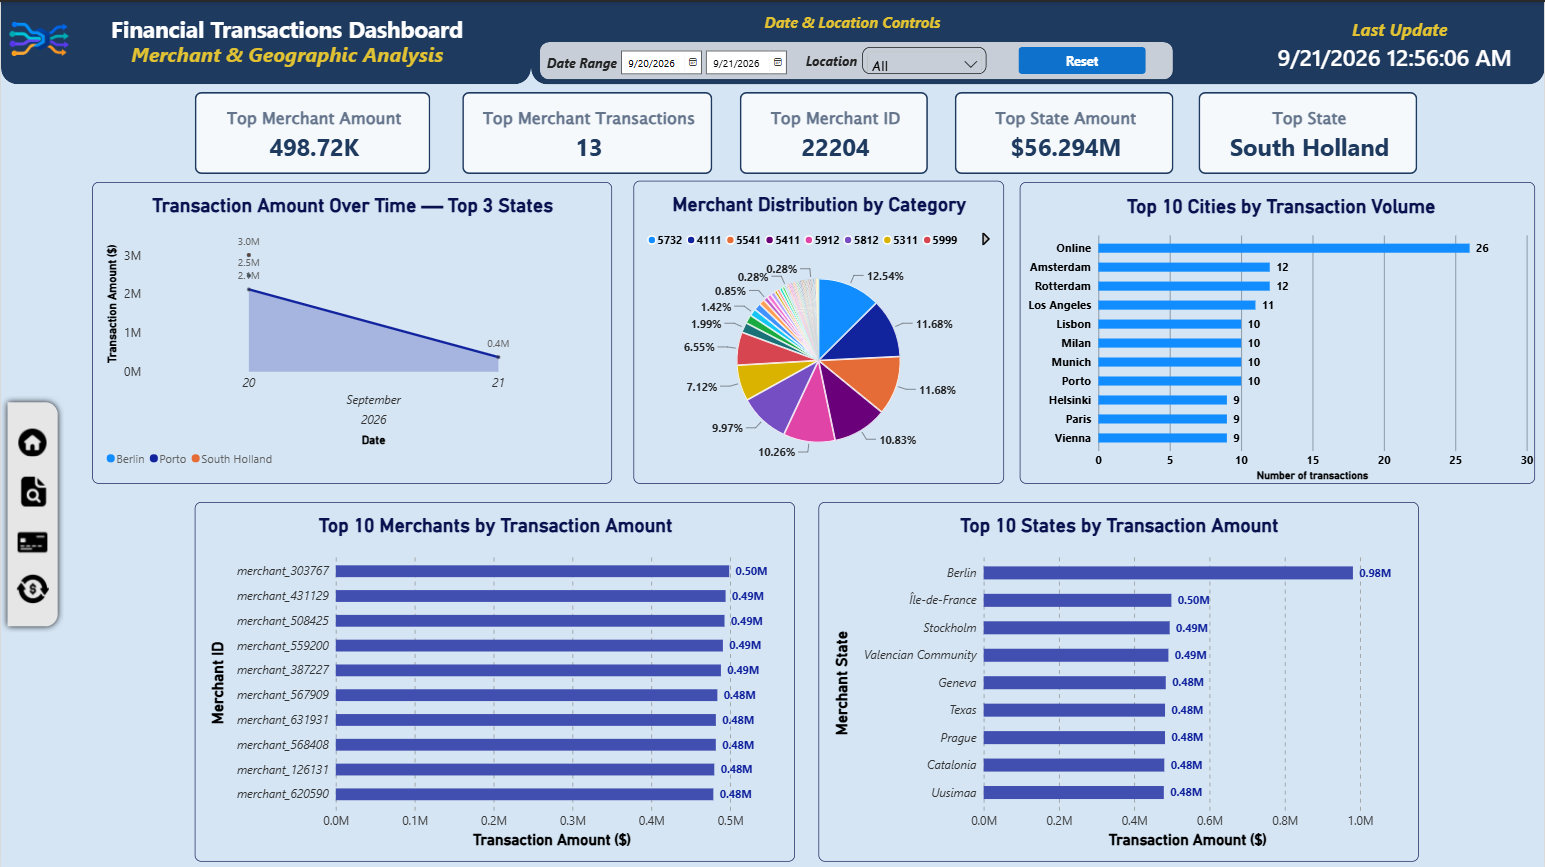

Layout of this report page (visuals, bound fields, positions):
{"tool":"powerbi","page":{"name":"Merchant & Geographic","canvas":[1920,1080],"ordinal":4},"visuals":[{"type":"shape","box":[0,0,659.1,102.4],"z":0},{"type":"shape","box":[670.3,50.3,787.6,46.5],"z":0,"group":"g1"},{"type":"shape","box":[0,489,78.5,294.8],"z":0,"group":"g2"},{"type":"slicer","fields":{"Values":["fact_transactions.timestamp"]},"box":[763.4,55.8,223.4,37.2],"z":1000,"group":"g1"},{"type":"cardVisual","fields":{"Data":["fact_transactions.Top Merchant Amount"]},"box":[240.7,111.8,293.2,102.6],"z":1000},{"type":"image","box":[0,3.5,94.2,85.5],"z":2000},{"type":"shape","box":[674,50.3,98.7,50.3],"z":2000,"group":"g1"},{"type":"shape","box":[659.2,0,1260.8,102.7],"z":3000},{"type":"shape","box":[983.1,48.4,100.5,50.3],"z":3000,"group":"g1"},{"type":"shape","box":[136.9,3.6,437.7,59.4],"z":4000},{"type":"slicer","fields":{"Values":["dim_merchant.merchant_state"]},"box":[1070.6,55.8,154.5,33.5],"z":4000,"group":"g1"},{"type":"shape","box":[161.3,38.9,388.7,50.5],"z":5000},{"type":"actionButton","box":[1266.1,55.8,158.3,33.5],"z":5000,"group":"g1"},{"type":"cardVisual","title":"Last Update","fields":{"Data":["Min(Last_Update.Last Update)"]},"box":[1571.5,46.5,337,42.8],"z":6000},{"type":"shape","box":[1625.5,16.8,227.2,33.5],"z":7000},{"type":"shape","box":[919.8,0,277.4,50.3],"z":8000},{"type":"group","id":"g1","title":"Group 1","box":[670.3,48.4,787.6,52.1],"z":9000},{"type":"cardVisual","fields":{"Data":["Last_Update.Top State Amount"]},"box":[1186.5,111.8,272.9,102.3],"z":10000},{"type":"group","id":"g2","title":"Group 2","box":[0,489,79,294.8],"z":11000},{"type":"barChart","title":"Top 10 Merchants by Transaction Amount","fields":{"Category":["fact_transactions.merchant_id"],"Y":["Sum(fact_transactions.amount)"]},"box":[240.7,621.7,746.8,447.3],"z":12000},{"type":"pieChart","title":"Merchant Distribution by Category","fields":{"Category":["dim_merchant.merchant_category_code"],"Y":["Count(dim_merchant.merchant_id)"]},"box":[786.6,221.8,460.6,377.2],"z":13000},{"type":"barChart","title":"Top 10 Cities by Transaction Volume","fields":{"Category":["fact_transactions.merchant_city"],"Y":["CountNonNull(fact_transactions.transaction_id)"]},"box":[1266.1,223.7,640.6,375.3],"z":14000},{"type":"cardVisual","fields":{"Data":["fact_transactions.Top Merchant Transactions"]},"box":[574.3,111.8,311.5,102.6],"z":15000},{"type":"cardVisual","fields":{"Data":["fact_transactions.Top Merchant ID"]},"box":[919.2,111.8,234.5,102.6],"z":16000},{"type":"actionButton","box":[0.7,514.1,78.3,66.3],"z":16000,"group":"g2"},{"type":"actionButton","box":[11.1,577,57.4,61.1],"z":17000,"group":"g2"},{"type":"actionButton","box":[10.9,699.5,57.5,60.6],"z":17000},{"type":"cardVisual","fields":{"Data":["Last_Update.Top State"]},"box":[1489.8,111.8,272.9,102.3],"z":18000},{"type":"actionButton","box":[5,634.2,69.6,75.1],"z":18000,"group":"g2"},{"type":"barChart","title":"Top 10 States by Transaction Amount","fields":{"Category":["fact_transactions.merchant_state"],"Y":["Sum(fact_transactions.amount)"]},"box":[1015.9,621.7,746.8,447.3],"z":19000},{"type":"lineChart","title":"Transaction Amount Over Time — Top 3 States","fields":{"Category":["fact_transactions.timestamp.Variation.Date Hierarchy.Year","fact_transactions.timestamp.Variation.Date Hierarchy.Month","fact_transactions.timestamp.Variation.Date Hierarchy.Day"],"Series":["fact_transactions.merchant_state"],"Y":["Sum(fact_transactions.amount)"]},"box":[114,224.2,646.4,375.5],"z":19001}]}

Visuals, with their boxes in screenshot pixels (x1, y1, x2, y2), scaled from the page's 1920x1080 canvas onto the 1545x867 screenshot:
shape: <box>0,0,530,82</box>
shape: <box>539,40,1173,78</box>
shape: <box>0,393,63,629</box>
slicer - fact_transactions.timestamp: <box>614,45,794,75</box>
cardVisual - fact_transactions.Top Merchant Amount: <box>194,90,430,172</box>
image: <box>0,3,76,71</box>
shape: <box>542,40,622,81</box>
shape: <box>530,0,1544,82</box>
shape: <box>791,39,872,79</box>
shape: <box>110,3,462,51</box>
slicer - dim_merchant.merchant_state: <box>861,45,986,72</box>
shape: <box>130,31,443,72</box>
actionButton: <box>1019,45,1146,72</box>
"Last Update" cardVisual: <box>1265,37,1536,72</box>
shape: <box>1308,13,1491,40</box>
shape: <box>740,0,963,40</box>
"Group 1" group: <box>539,39,1173,81</box>
cardVisual - Last_Update.Top State Amount: <box>955,90,1174,172</box>
"Group 2" group: <box>0,393,64,629</box>
"Top 10 Merchants by Transaction Amount" barChart: <box>194,499,795,858</box>
"Merchant Distribution by Category" pieChart: <box>633,178,1004,481</box>
"Top 10 Cities by Transaction Volume" barChart: <box>1019,180,1534,481</box>
cardVisual - fact_transactions.Top Merchant Transactions: <box>462,90,713,172</box>
cardVisual - fact_transactions.Top Merchant ID: <box>740,90,928,172</box>
actionButton: <box>1,413,64,466</box>
actionButton: <box>9,463,55,512</box>
actionButton: <box>9,562,55,610</box>
cardVisual - Last_Update.Top State: <box>1199,90,1418,172</box>
actionButton: <box>4,509,60,569</box>
"Top 10 States by Transaction Amount" barChart: <box>817,499,1418,858</box>
"Transaction Amount Over Time — Top 3 States" lineChart: <box>92,180,612,481</box>
